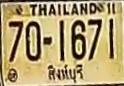0: (25, 20, 40, 60)
1: (108, 19, 114, 58), (59, 19, 64, 60)
6: (70, 19, 86, 59)
7: (8, 20, 23, 60), (87, 18, 101, 60)
SBR: (41, 62, 88, 85)
